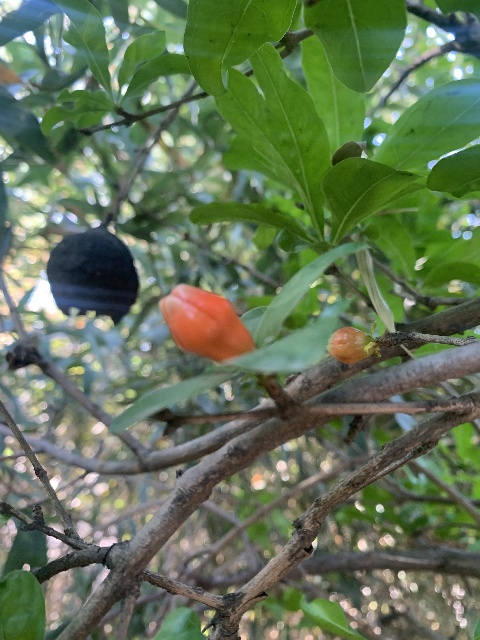bud: (158, 283, 254, 362), (326, 326, 373, 364)
